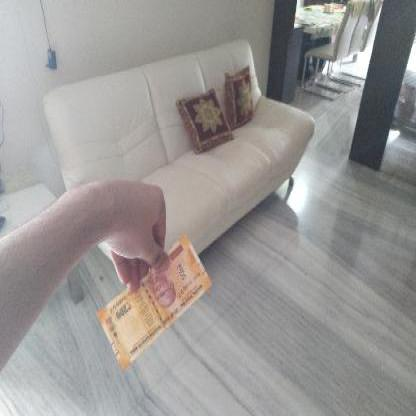New200Front: (102, 236, 210, 368)
